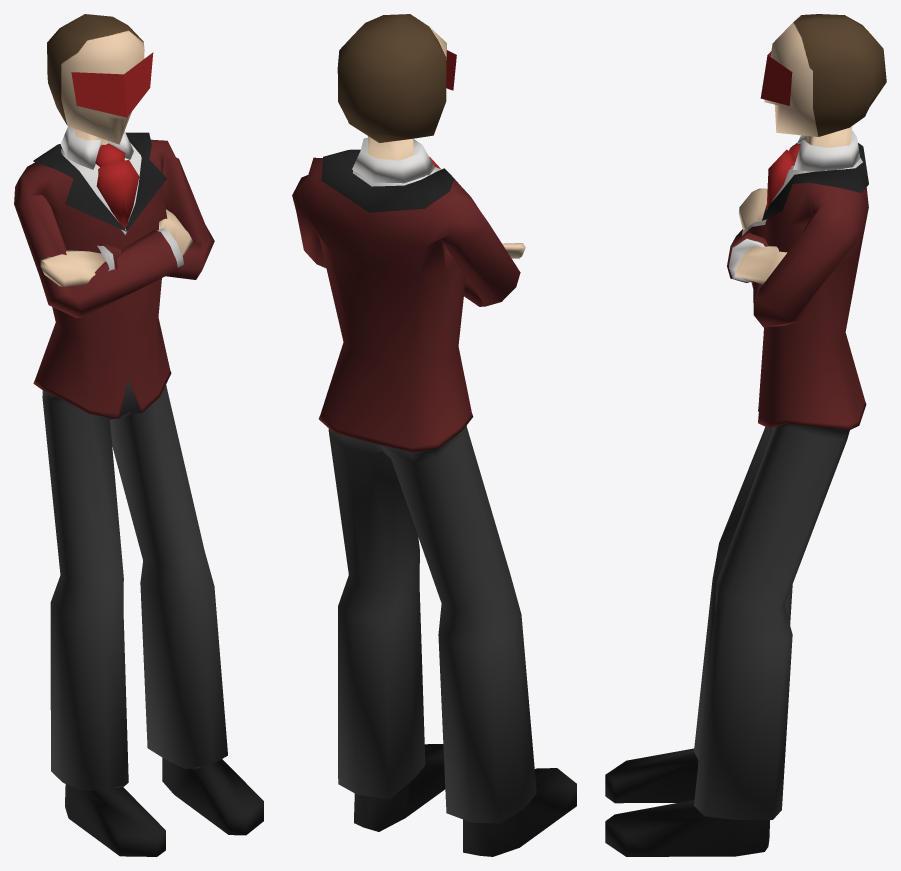
Rendered from Character2.fbx.
The picture shows the model from 3 angles, left to right: view 1: azimuth 30°, elevation 25°; view 2: azimuth 150°, elevation 25°; view 3: azimuth 270°, elevation 25°; orthographic projection. The views are drawn at different scales.
Parts seen in each view (by area): view 1: CHARA_Base.002, CHARA_Base_Head.002, CHARA_Base_Mask.002; view 2: CHARA_Base.002, CHARA_Base_Head.002; view 3: CHARA_Base.002, CHARA_Base_Head.002, CHARA_Base_Mask.002.
Part boxes in pixels (x1,y1,x2,y2): CHARA_Base.002: (14, 126, 263, 856); CHARA_Base_Head.002: (47, 14, 144, 144); CHARA_Base_Mask.002: (71, 52, 153, 117); CHARA_Base.002: (292, 136, 576, 856); CHARA_Base_Head.002: (337, 14, 446, 142); CHARA_Base.002: (605, 126, 868, 856); CHARA_Base_Head.002: (764, 14, 886, 136); CHARA_Base_Mask.002: (760, 51, 792, 105).
Size of the model in its own units: 50.22 by 196 by 62.77.
